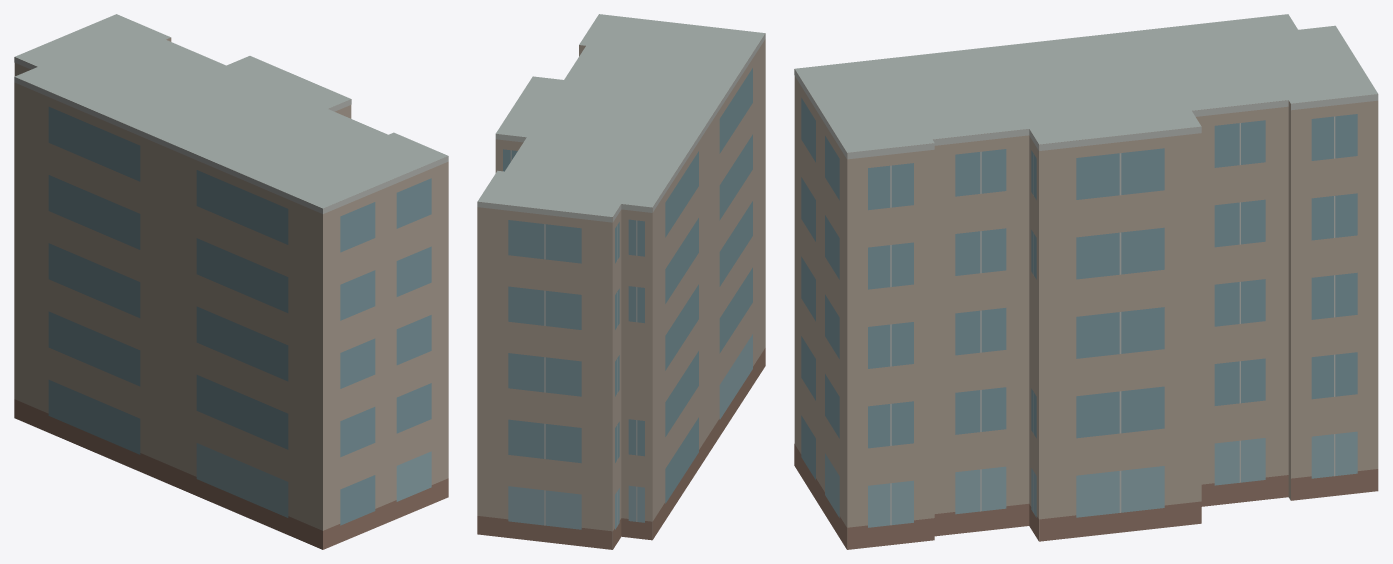
Rendered from survey-upis-32936137.glb.
3 views of the same model, side by side, from view 1: azimuth 30°, elevation 25°; view 2: azimuth 150°, elevation 25°; view 3: azimuth 270°, elevation 25° (orthographic). The views are drawn at different scales.
Visible parts, largest first — view 1: survey-upis-32936137.tmp; view 2: survey-upis-32936137.tmp; view 3: survey-upis-32936137.tmp.
Boxes of the visible parts, x1=… form: survey-upis-32936137.tmp: x1=14, y1=14, x2=448, y2=549; survey-upis-32936137.tmp: x1=477, y1=14, x2=765, y2=549; survey-upis-32936137.tmp: x1=794, y1=14, x2=1378, y2=549.
Bounding box in the file's own units: 11.07 × 14.75 × 19.67.
